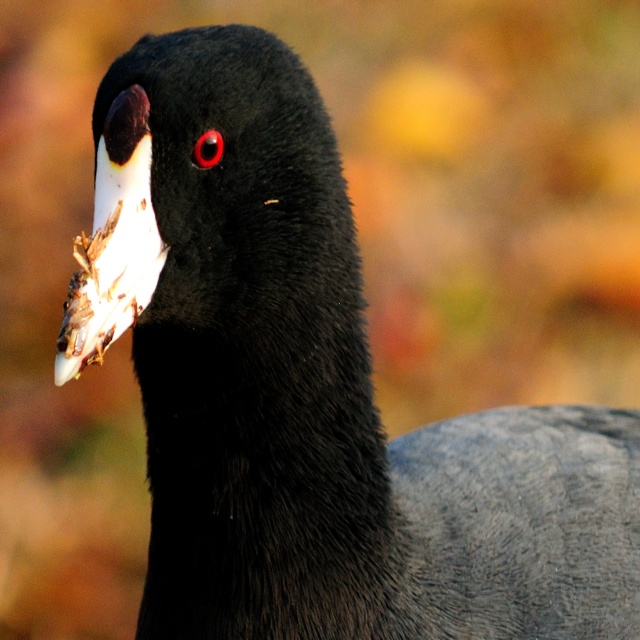Goose: (41, 54, 634, 640)
